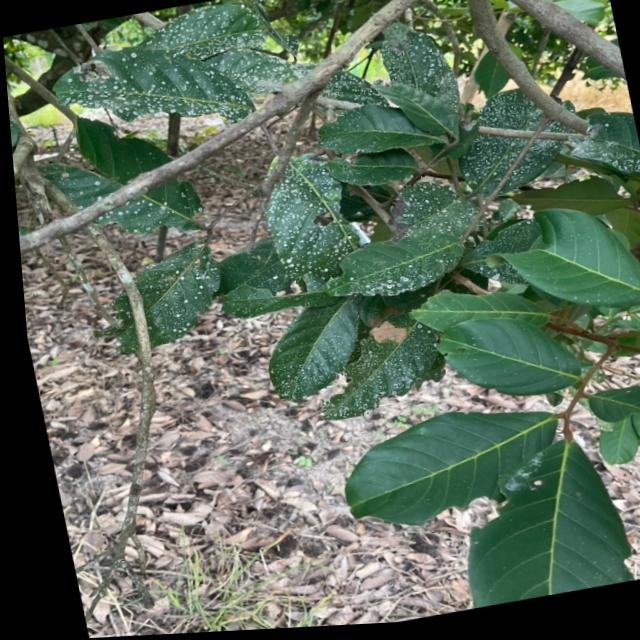Algal Leaf Spot: (323, 10, 577, 226), (261, 127, 480, 302), (75, 25, 302, 148), (258, 285, 448, 422), (113, 258, 233, 343)
